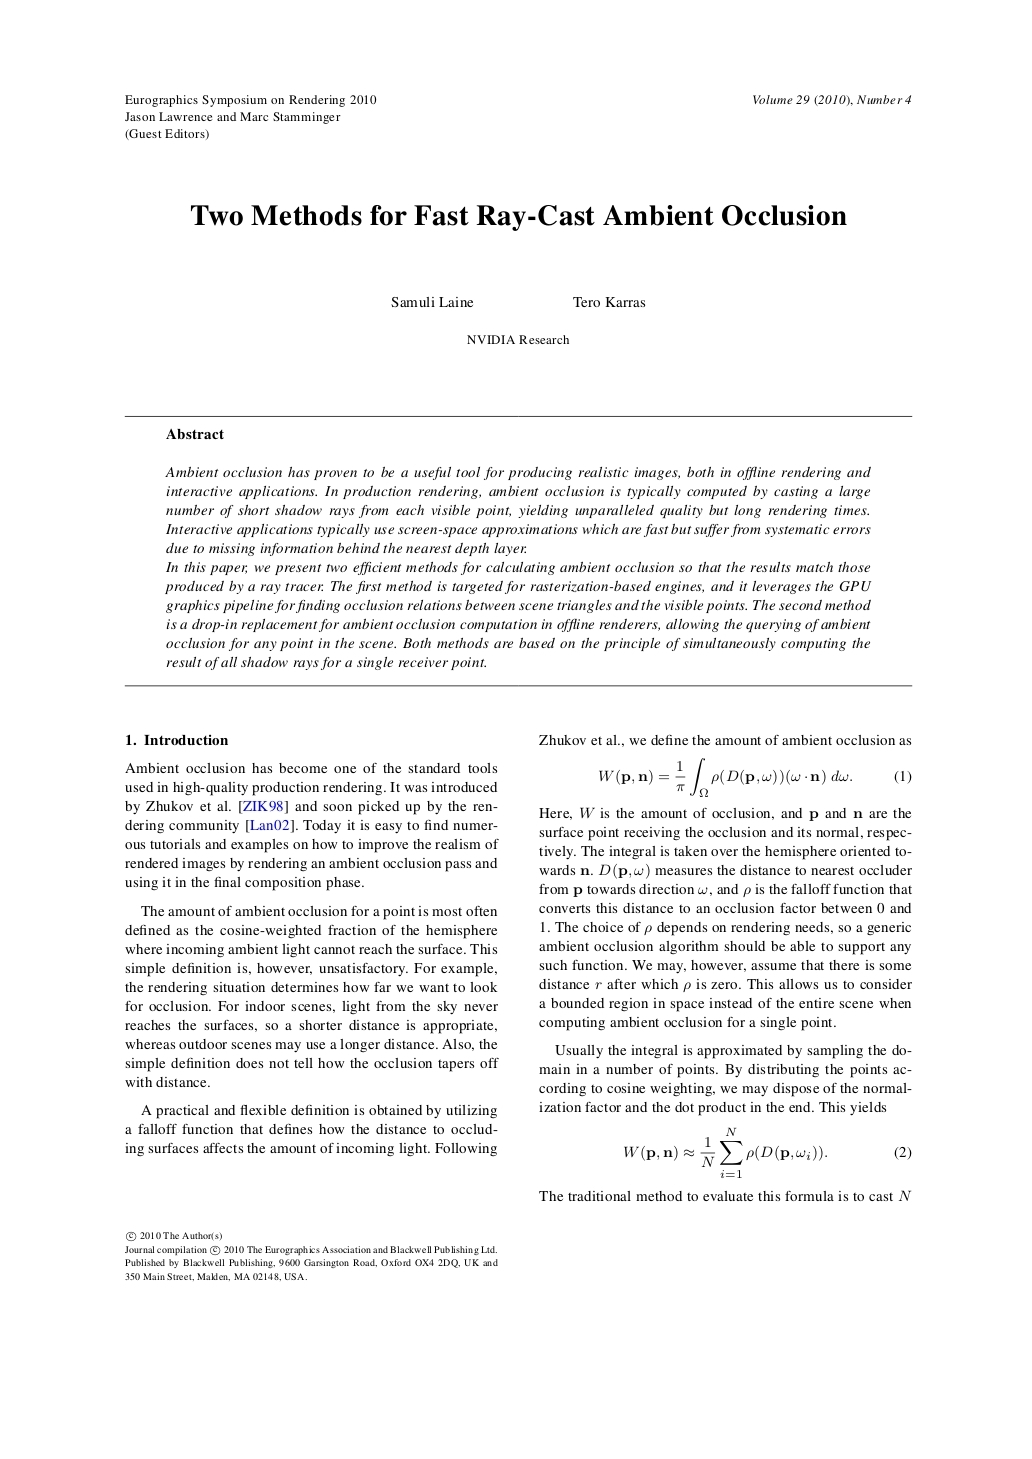formula: (624, 1127, 911, 1177), (599, 757, 911, 797)
